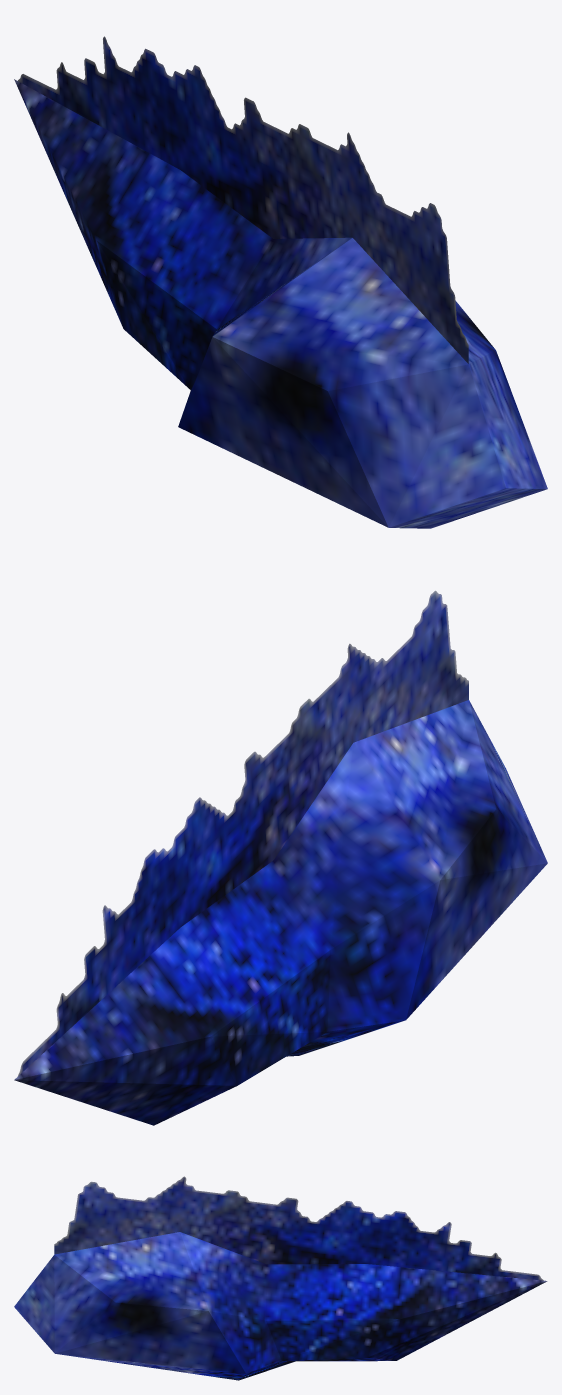
The model's file is silex.obj.
3 views of the same model, one above another, from view 1: azimuth 30°, elevation 25°; view 2: azimuth 150°, elevation 25°; view 3: azimuth 270°, elevation 25° (orthographic). The views are drawn at different scales.
Parts seen in each view (by area): view 1: Body; view 2: Body; view 3: Body.
Part boxes in pixels (x1,y1,x2,y2): Body: (14, 36, 547, 528); Body: (14, 590, 547, 1125); Body: (14, 1176, 547, 1380).
Bounding box in the file's own units: 0.3462 × 0.6072 × 1.3.
